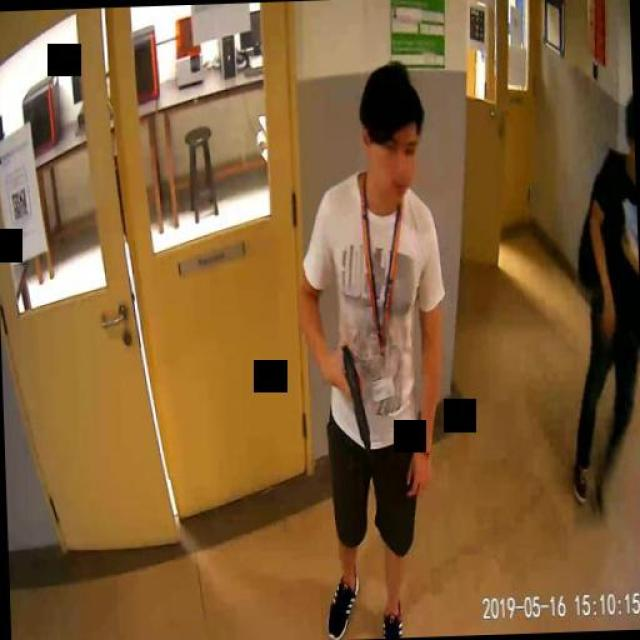gun: (336, 342, 370, 450)
